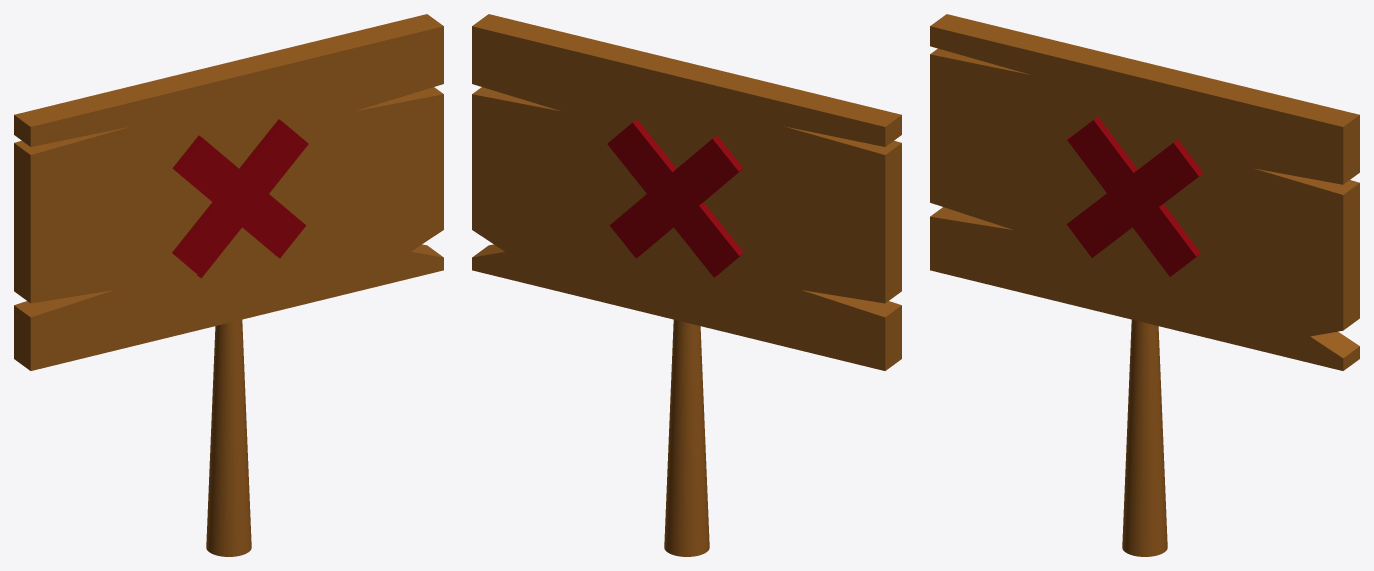
File: Sign2.fbx
The picture shows the model from 3 angles, left to right: view 1: azimuth 30°, elevation 25°; view 2: azimuth 150°, elevation 25°; view 3: azimuth 330°, elevation 25°; orthographic projection.
Parts seen in each view (by area): view 1: Cube, Cube.002, Cylinder; view 2: Cube, Cube.002, Cylinder; view 3: Cube, Cube.002, Cylinder.
Boxes of the visible parts, x1,y1,x2,y2 form: Cube: (14, 14, 443, 370); Cube.002: (172, 119, 308, 278); Cylinder: (206, 319, 251, 556); Cube: (472, 14, 901, 370); Cube.002: (607, 119, 743, 278); Cylinder: (664, 319, 709, 556); Cube: (930, 14, 1359, 370); Cube.002: (1066, 117, 1203, 276); Cylinder: (1122, 319, 1167, 556).
Size of the model in its own units: 173 by 190 by 18.82.
